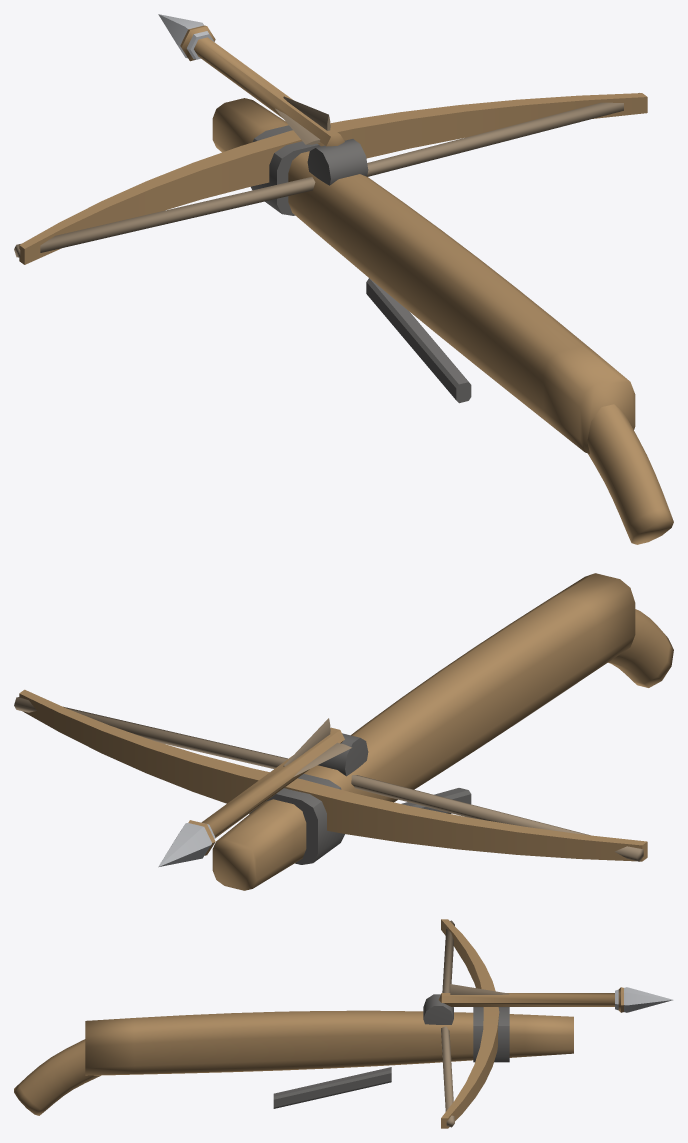
The model's file is hand-crossbow.glb.
3 views of the same model, one above another, from view 1: azimuth 30°, elevation 25°; view 2: azimuth 150°, elevation 25°; view 3: azimuth 270°, elevation 25° (orthographic). The views are drawn at different scales.
Parts seen in each view (by area): view 1: hand-crossbow; view 2: hand-crossbow; view 3: hand-crossbow.
Boxes of the visible parts, x1,y1,x2,y2 form: hand-crossbow: (14, 14, 673, 544); hand-crossbow: (14, 573, 673, 890); hand-crossbow: (14, 919, 672, 1128).
Bounding box in the file's own units: 0.8003 × 0.2441 × 1.12.
